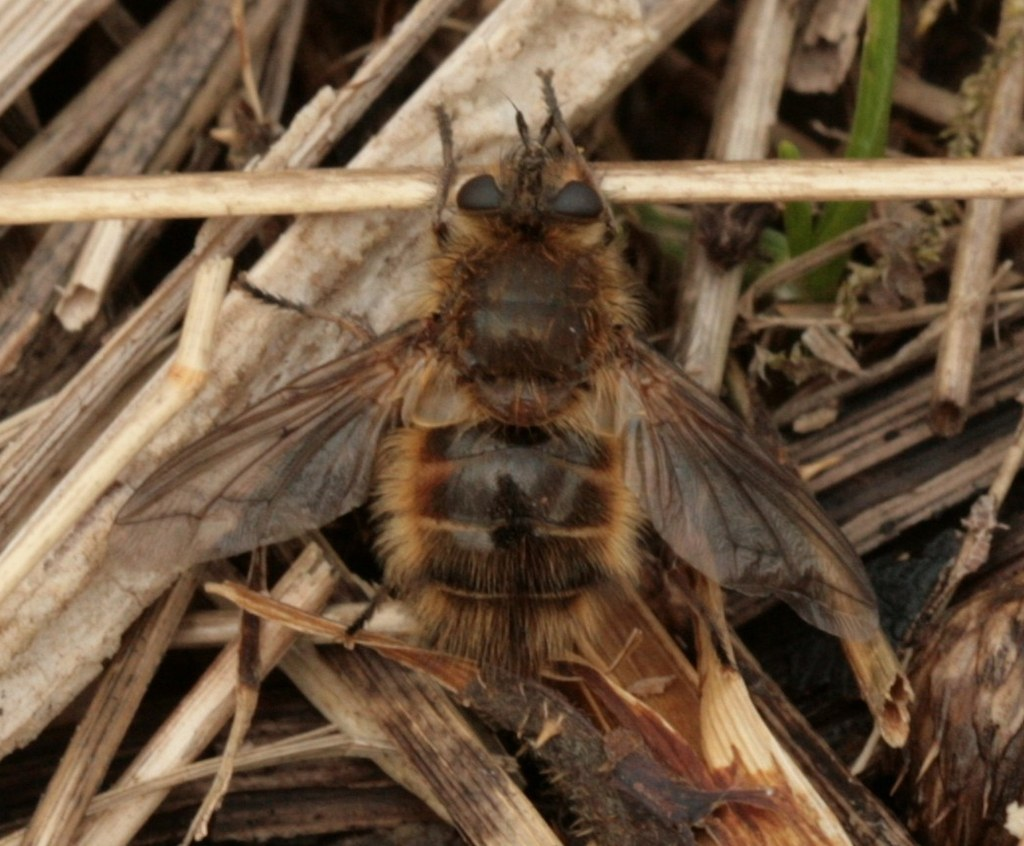bee: (88, 91, 950, 765)
